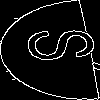S: (24, 25, 100, 64)
